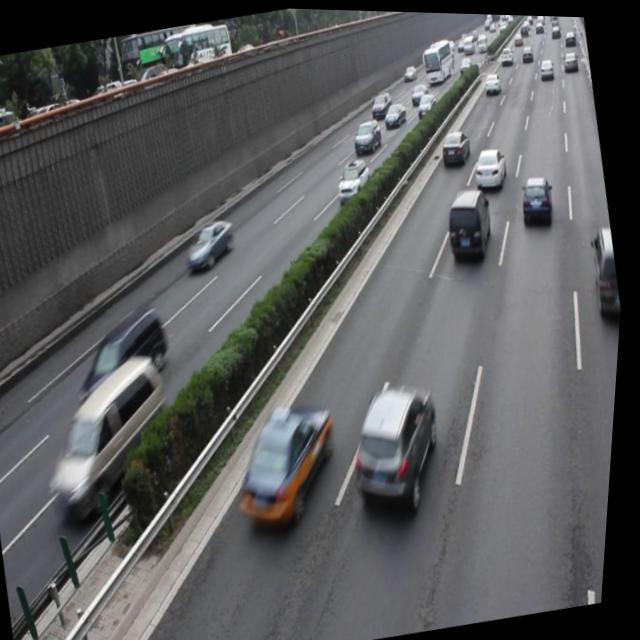car: (225, 395, 354, 534), (343, 375, 460, 521), (583, 222, 629, 323), (182, 215, 243, 275), (515, 167, 559, 227), (469, 141, 512, 191), (333, 155, 377, 203), (437, 125, 475, 167)
truck: (33, 347, 192, 528), (68, 298, 183, 412), (440, 182, 500, 262)
